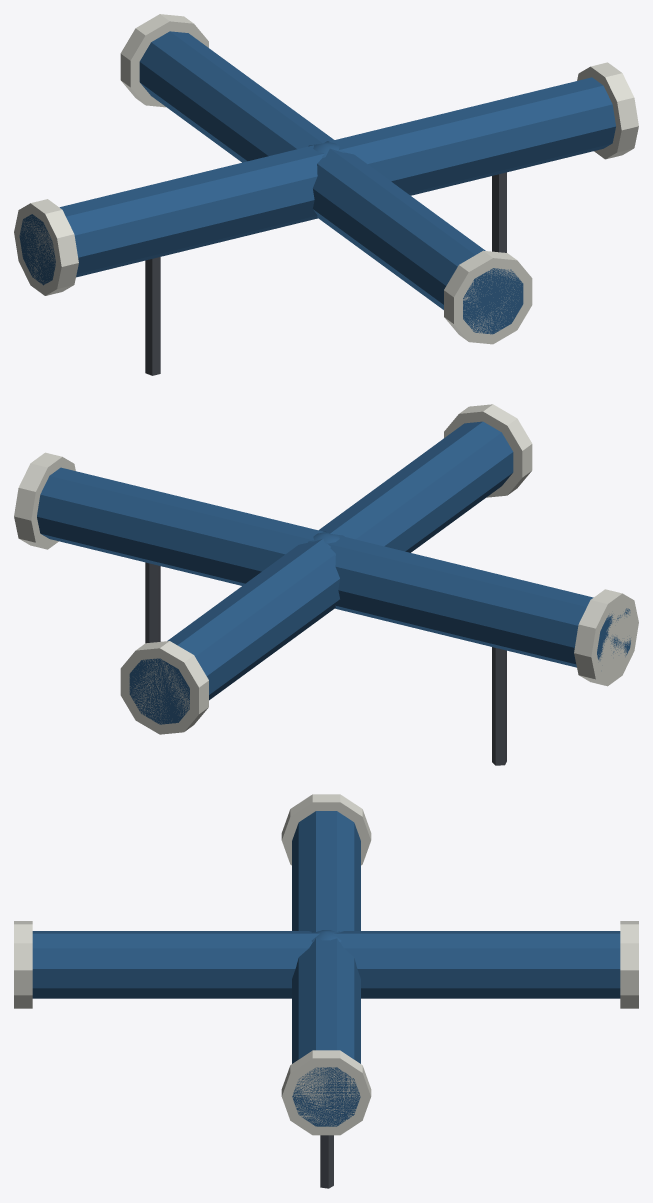
Rendered from PipeL_Cross.fbx.
The picture shows the model from 3 angles, top to bottom: view 1: azimuth 30°, elevation 25°; view 2: azimuth 150°, elevation 25°; view 3: azimuth 270°, elevation 25°; orthographic projection. The views are drawn at different scales.
Parts seen in each view (by area): view 1: PipeL_Cross_Body; view 2: PipeL_Cross_Body; view 3: PipeL_Cross_Body.
Part boxes in pixels (x1,y1,x2,y2): PipeL_Cross_Body: (14,14,638,375); PipeL_Cross_Body: (14,404,638,765); PipeL_Cross_Body: (14,794,638,1188).
Bounding box in the file's own units: 1 × 0.3215 × 1.
